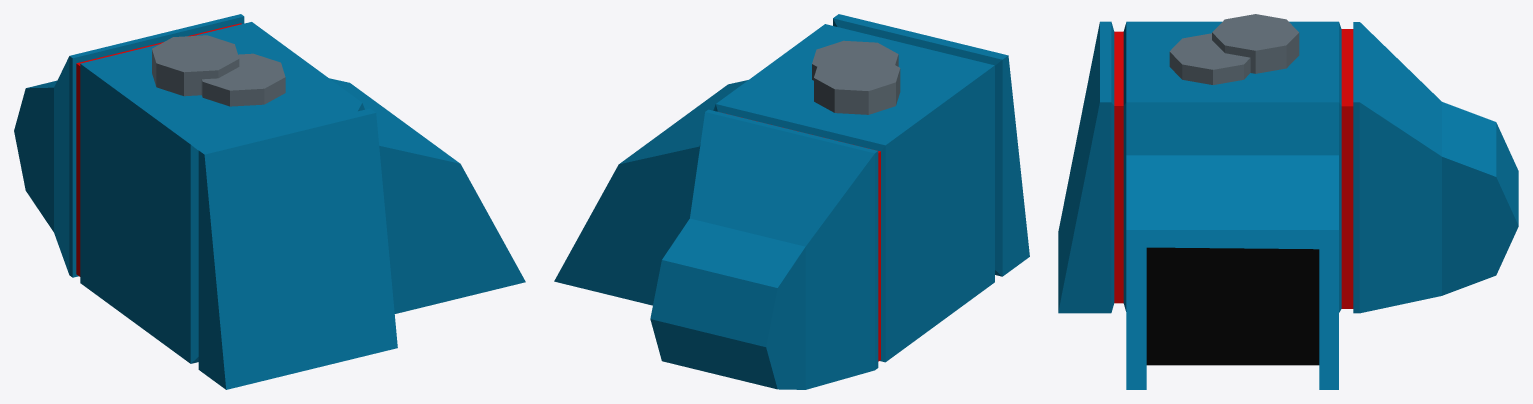
The model's file is Building_01.fbx.
The picture shows the model from 3 angles, left to right: view 1: azimuth 30°, elevation 25°; view 2: azimuth 150°, elevation 25°; view 3: azimuth 270°, elevation 25°; orthographic projection. The views are drawn at different scales.
Parts seen in each view (by area): view 1: Building1; view 2: Building1; view 3: Building1.
Boxes of the visible parts, <box> form: Building1: <box>14,14,525,389</box>; Building1: <box>554,14,1029,389</box>; Building1: <box>1058,14,1518,389</box>.
Size of the model in its own units: 5.11 by 3.55 by 6.32.
